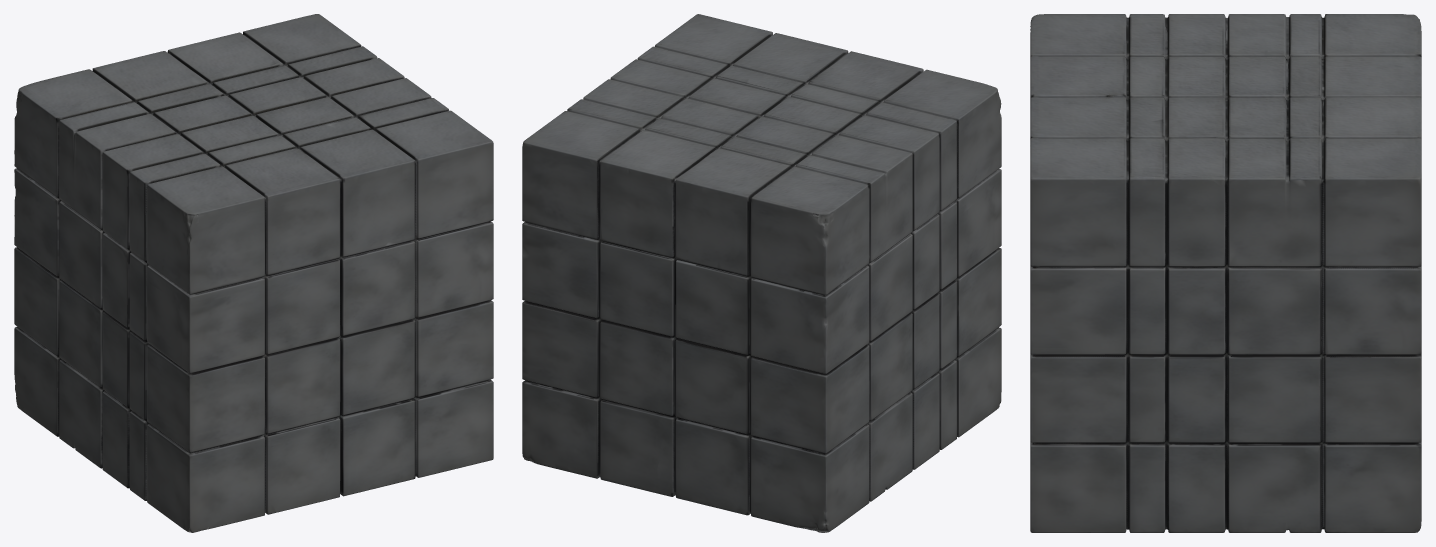
The model's file is floor.fbx.
3 renders of one model, left to right at view 1: azimuth 30°, elevation 25°; view 2: azimuth 150°, elevation 25°; view 3: azimuth 270°, elevation 25°, orthographic. The views are drawn at different scales.
Parts seen in each view (by area): view 1: node_0; view 2: node_0; view 3: node_0.
Boxes of the visible parts, <box> form: node_0: <box>14,14,493,532</box>; node_0: <box>522,14,1001,532</box>; node_0: <box>1030,14,1421,532</box>.
Size of the model in its own units: 69.51 by 69.54 by 69.51.
